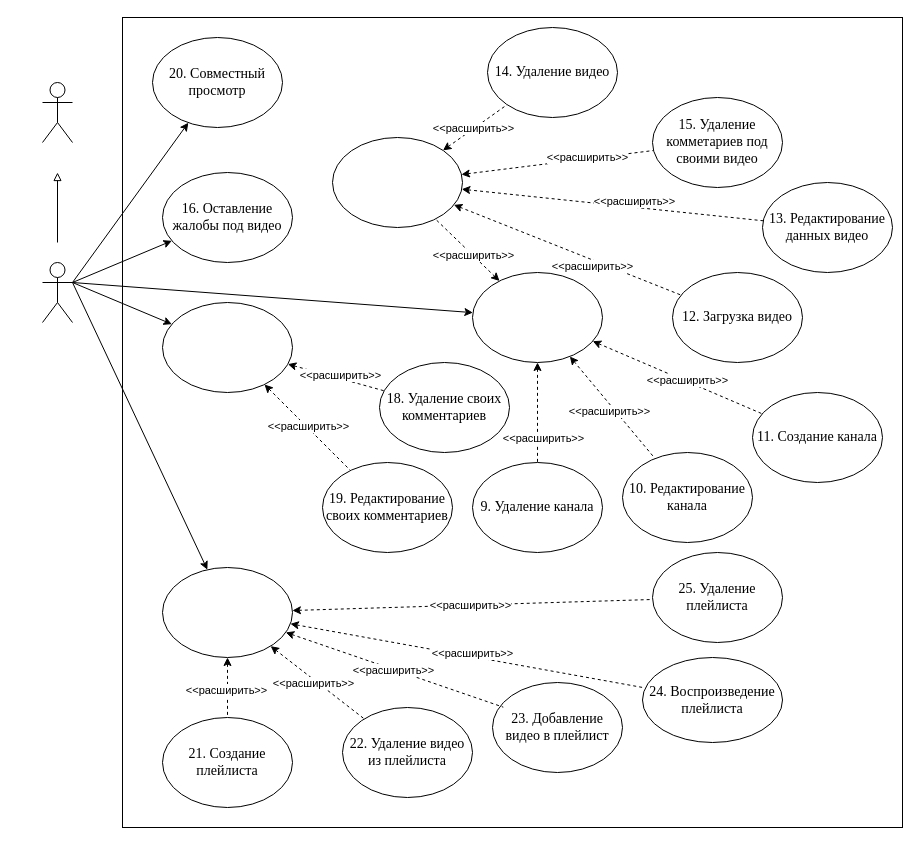
Some shapes in this 920 by 845 pixel diagram are drawn without their labels. The box of each missing label's shape, as (x1, y1, x2, y2) in pixels:
17. Оставление комментариев под видео: (162, 302, 292, 392)
Клиент: (42, 262, 72, 322)
Контроль над видео в своих каналах: (332, 136, 462, 228)
Контроль своих каналов: (472, 272, 602, 362)
Контроль своих плейлистов: (162, 566, 292, 658)
Пользователь: (42, 82, 72, 142)
